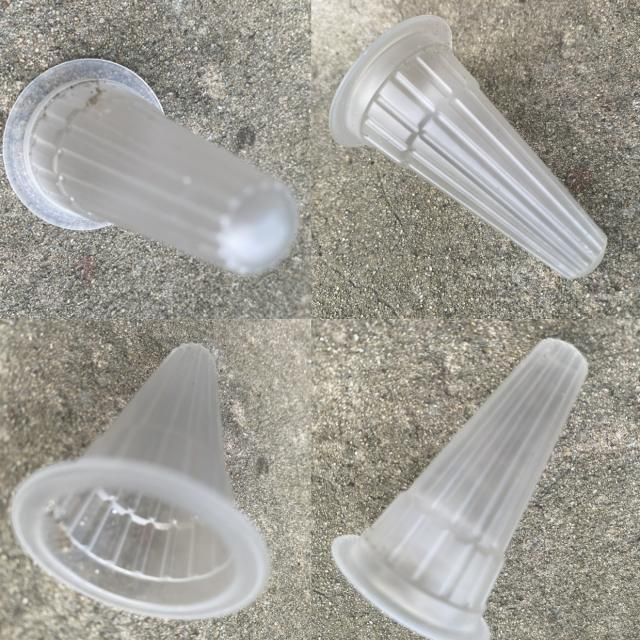plastik: (332, 339, 587, 640), (329, 16, 607, 279), (12, 343, 270, 618), (3, 58, 298, 274)
